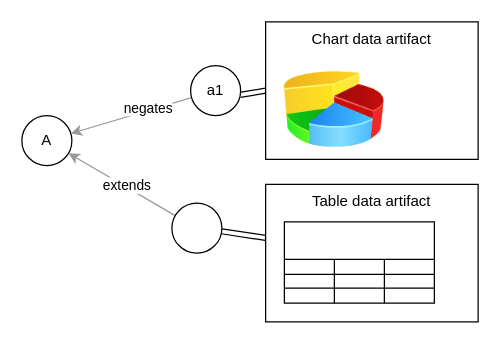
Some shapes in this 500 by 344 pixel diagram are drawn without their labels. The shapes that lost their labels are listed below. From the top down, each one's centre as x and y in pixels, then its label:
At (x=196, y=227): "a2".
At (x=358, y=262): "Heading".
